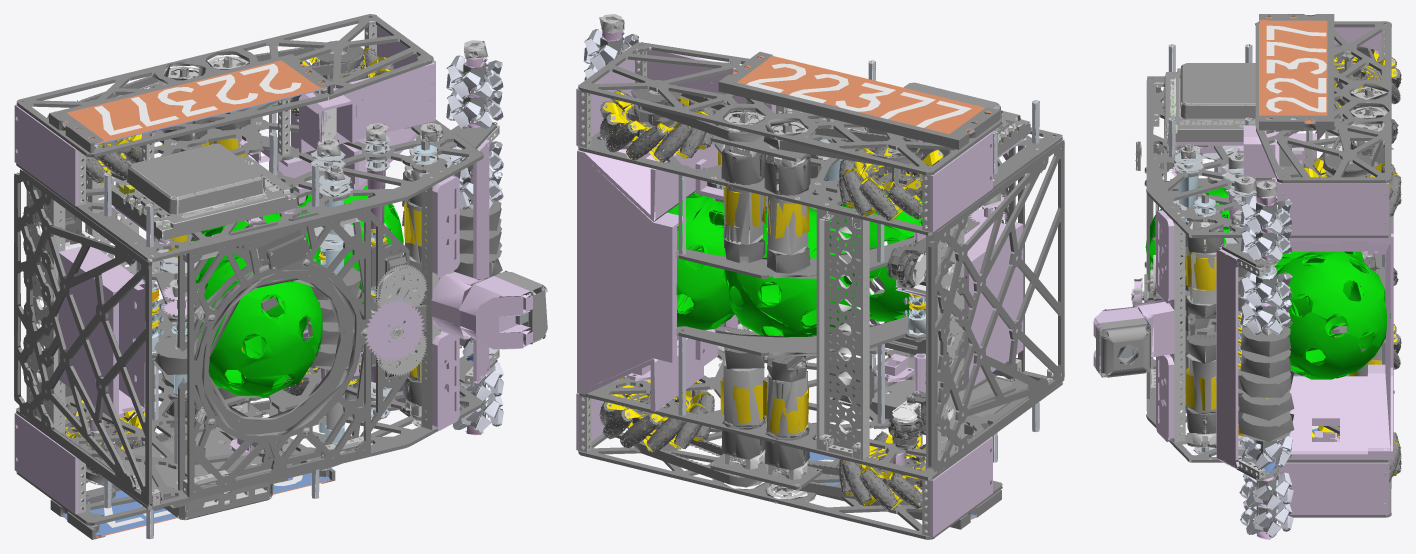
The model's file is MainBody.glb.
3 views of the same model, side by side, from view 1: azimuth 30°, elevation 25°; view 2: azimuth 150°, elevation 25°; view 3: azimuth 270°, elevation 25° (orthographic). The views are drawn at different scales.
Parts seen in each view (by area): view 1: Part 1.075; view 2: Part 1.075; view 3: Part 1.075.
Part boxes in pixels (x1,y1,x2,y2): Part 1.075: (14,14,547,539); Part 1.075: (576,14,1064,539); Part 1.075: (1093,14,1401,539).
Bounding box in the file's own units: 0.4299 × 0.3889 × 0.3027.
